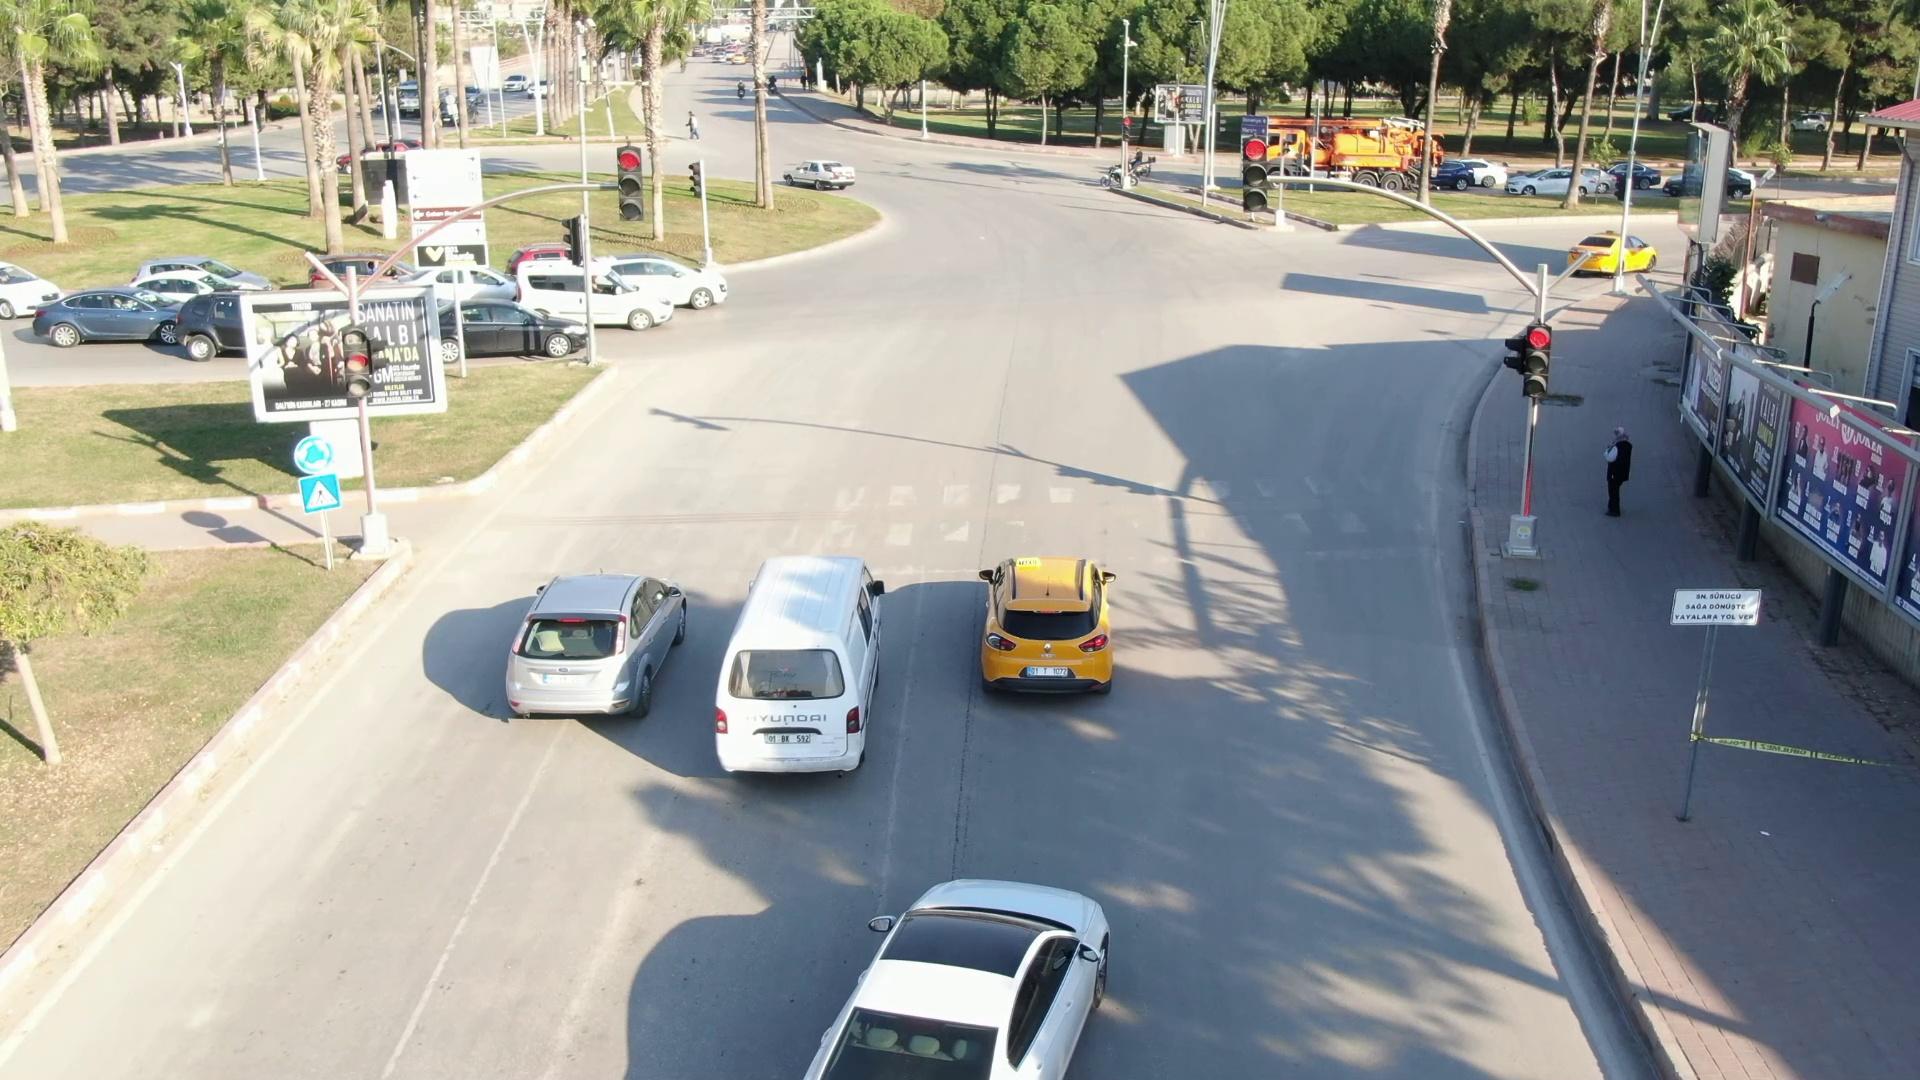car: (802, 886, 1151, 1080), (704, 548, 892, 778), (484, 565, 692, 735), (974, 553, 1123, 702), (514, 251, 678, 327), (439, 294, 592, 357), (596, 247, 733, 308), (1566, 231, 1666, 272), (784, 155, 855, 192)
person: (1602, 419, 1639, 521)
